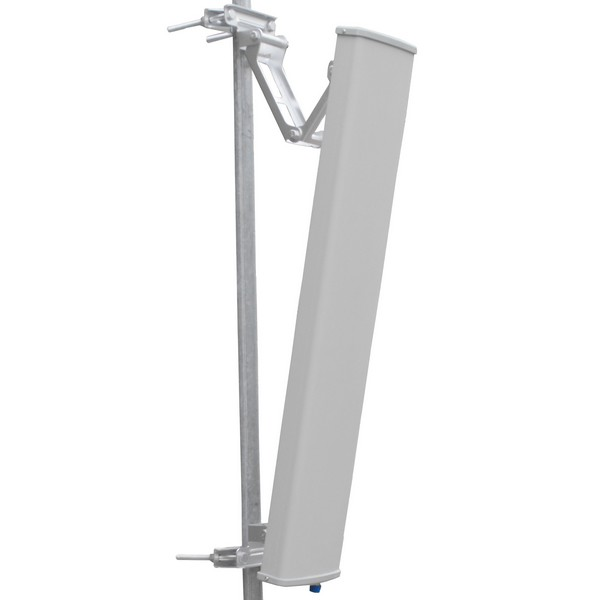sa: (236, 11, 399, 597)
